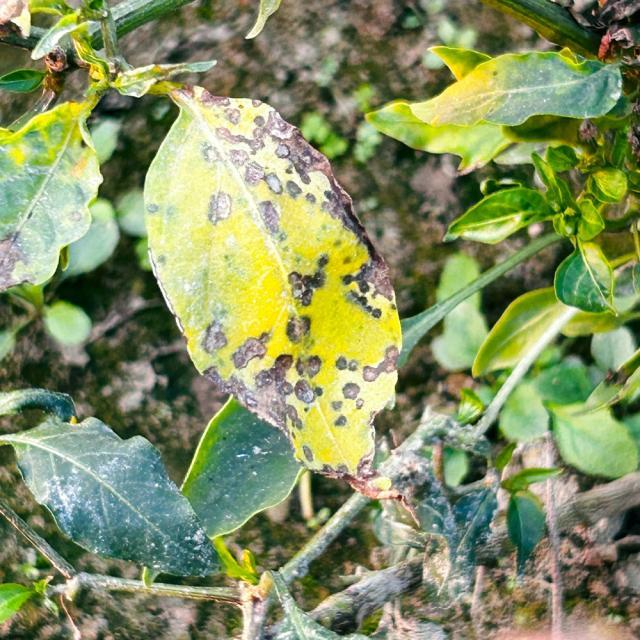Bercak Daun Serkospora: (142, 81, 404, 481)
